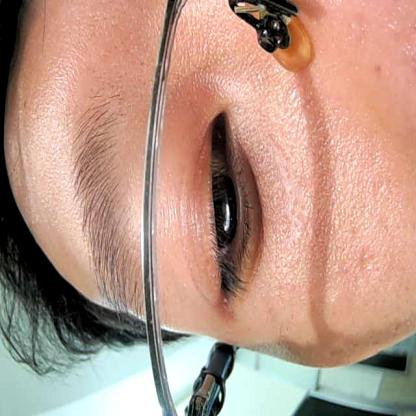Close: (178, 94, 272, 312)
